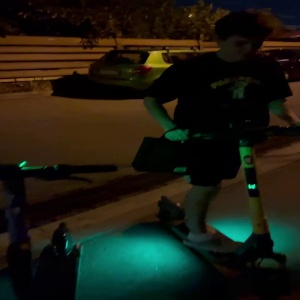human on a scooter: (124, 10, 300, 300)
